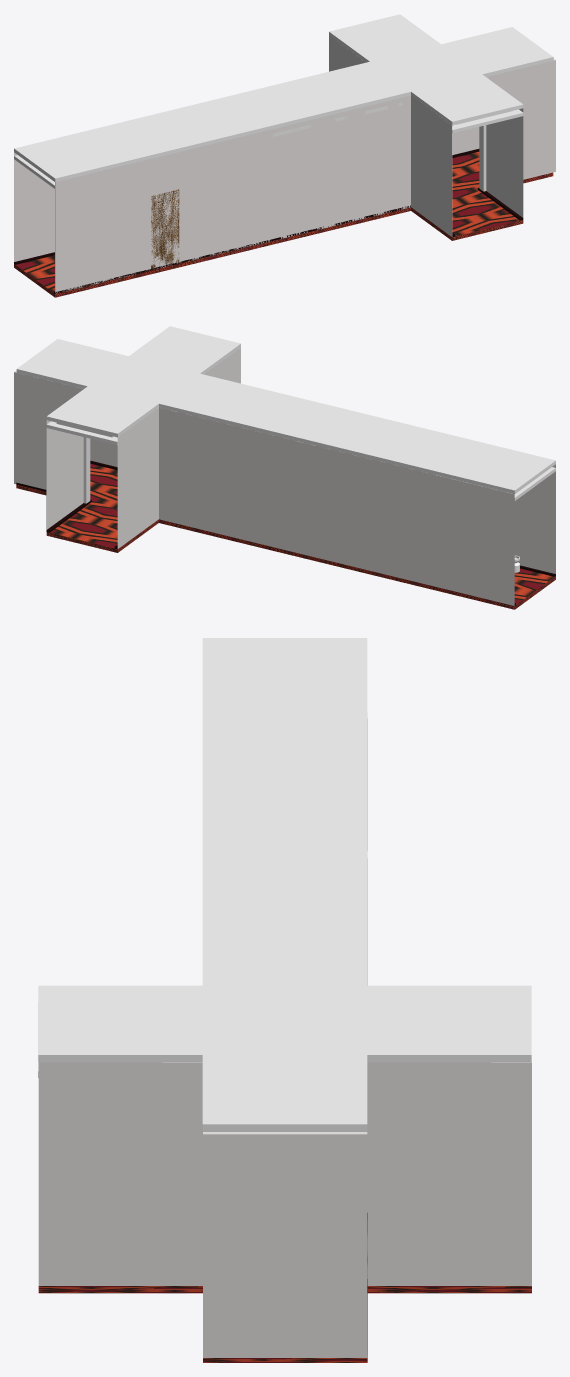
Rendered from version 4.fbx.
3 renders of one model, top to bottom at view 1: azimuth 30°, elevation 25°; view 2: azimuth 150°, elevation 25°; view 3: azimuth 270°, elevation 25°, orthographic. The views are drawn at different scales.
Visible parts, largest first — view 1: 物件_35, 物件_1, 物件_34, 物件_42, 物件_30, 物件_24, 物件_33, 物件_38, 物件_10, 物件_41, 物件_31, 物件_3 (+1 smaller); view 2: 物件_24, 物件_1, 物件_34, 物件_41, 物件_31, 物件_35, 物件_32, 物件_42, 物件_30, 物件_4, 物件_14; view 3: 物件_1, 物件_27, 物件_32, 物件_33, 物件_34.
Boxes of the visible parts, x1=… form: 物件_35: x1=55, y1=95, x2=410, y2=293; 物件_1: x1=14, y1=14, x2=553, y2=182; 物件_34: x1=14, y1=151, x2=553, y2=297; 物件_42: x1=411, y1=95, x2=452, y2=236; 物件_30: x1=488, y1=61, x2=553, y2=179; 物件_24: x1=14, y1=152, x2=54, y2=261; 物件_33: x1=486, y1=108, x2=523, y2=217; 物件_38: x1=151, y1=189, x2=179, y2=269; 物件_10: x1=54, y1=205, x2=455, y2=293; 物件_41: x1=329, y1=35, x2=365, y2=71; 物件_31: x1=452, y1=127, x2=479, y2=154; 物件_3: x1=452, y1=109, x2=523, y2=133; 物件_24: x1=159, y1=407, x2=514, y2=605; 物件_1: x1=16, y1=326, x2=555, y2=494; 物件_34: x1=16, y1=463, x2=555, y2=609; 物件_41: x1=117, y1=407, x2=158, y2=548; 物件_31: x1=16, y1=373, x2=83, y2=489; 物件_35: x1=514, y1=464, x2=555, y2=573; 物件_32: x1=46, y1=420, x2=83, y2=531; 物件_42: x1=204, y1=347, x2=240, y2=383; 物件_30: x1=90, y1=438, x2=117, y2=466; 物件_4: x1=46, y1=421, x2=117, y2=445; 物件_14: x1=83, y1=437, x2=90, y2=503; 物件_1: x1=38, y1=638, x2=531, y2=1131; 物件_27: x1=203, y1=1132, x2=367, y2=1357; 物件_32: x1=367, y1=1062, x2=531, y2=1285; 物件_33: x1=38, y1=1062, x2=202, y2=1285; 物件_34: x1=38, y1=1220, x2=531, y2=1362.
Bounding box in the file's own units: 1407 × 320 × 601.
Materials: 5 (2 with a texture image).
